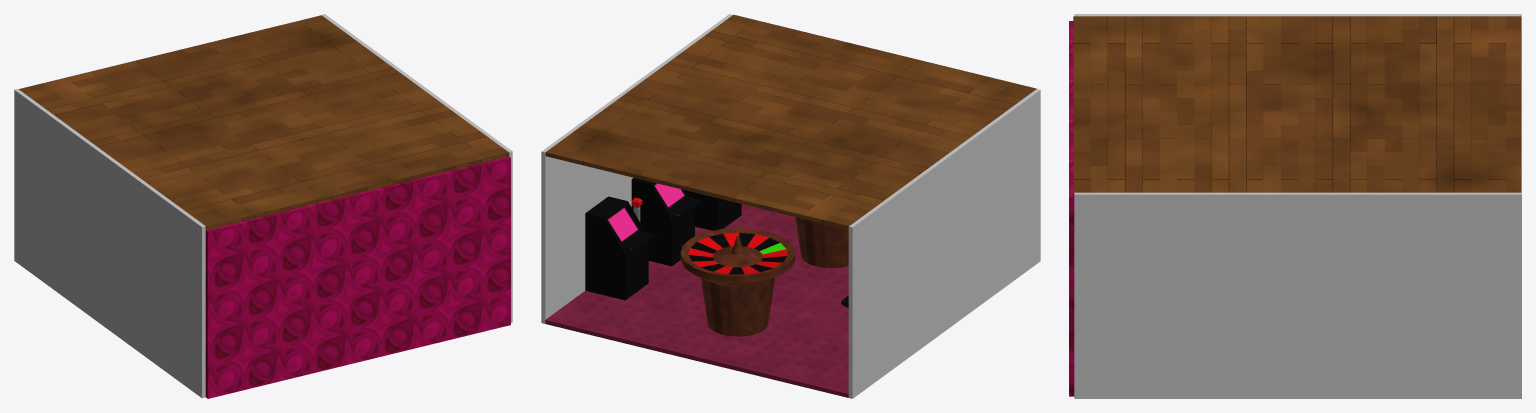
Rendered from Casino3_3.fbx.
The picture shows the model from 3 angles, left to right: view 1: azimuth 30°, elevation 25°; view 2: azimuth 150°, elevation 25°; view 3: azimuth 270°, elevation 25°; orthographic projection. The views are drawn at different scales.
Visible parts, largest first — view 1: Ceiling.009, SideWall1.048, SideWall1.046, SideWall1.047; view 2: Ceiling.009, SideWall1.046, Ground.010, SideWall1.047, RouletteTable.002, ArcadeMachine.001, ArcadeMachine.003, RouletteTable.003, ArcadeMachine.004; view 3: SideWall1.047, Ceiling.009, SideWall1.048, SideWall1.046.
Boxes of the visible parts, left/top/right/bottom form: Ceiling.009: left=19, top=15, right=509, bottom=230; SideWall1.048: left=205, top=156, right=510, bottom=398; SideWall1.046: left=14, top=89, right=205, bottom=398; SideWall1.047: left=321, top=14, right=512, bottom=322; Ceiling.009: left=545, top=14, right=1036, bottom=229; SideWall1.046: left=848, top=89, right=1040, bottom=398; Ground.010: left=545, top=204, right=848, bottom=397; SideWall1.047: left=541, top=14, right=732, bottom=323; RouletteTable.002: left=680, top=228, right=795, bottom=336; ArcadeMachine.001: left=585, top=196, right=655, bottom=300; ArcadeMachine.003: left=631, top=178, right=702, bottom=266; RouletteTable.003: left=795, top=217, right=848, bottom=268; ArcadeMachine.004: left=688, top=191, right=741, bottom=230; SideWall1.047: left=1074, top=192, right=1521, bottom=398; Ceiling.009: left=1073, top=16, right=1520, bottom=197; SideWall1.048: left=1069, top=21, right=1074, bottom=396; SideWall1.046: left=1074, top=14, right=1521, bottom=192.
Size of the model in its own units: 517 by 272 by 547.
